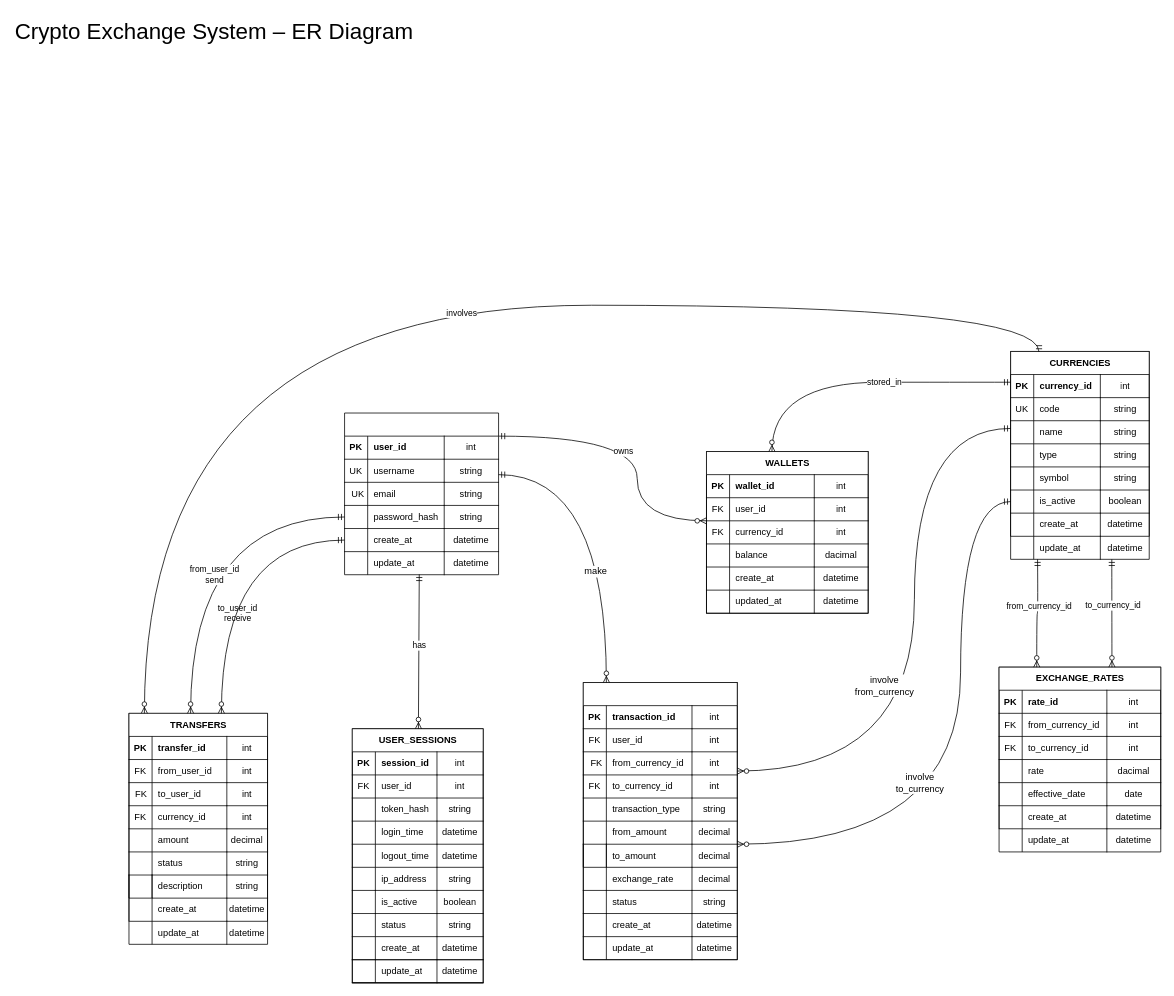
Image size: 1174x996. Some labels were removed from this diagram. Each missing label, with the box of its shape:
TRANSACTIONS: (583, 682, 737, 960)
USERS: (344, 412, 499, 575)
